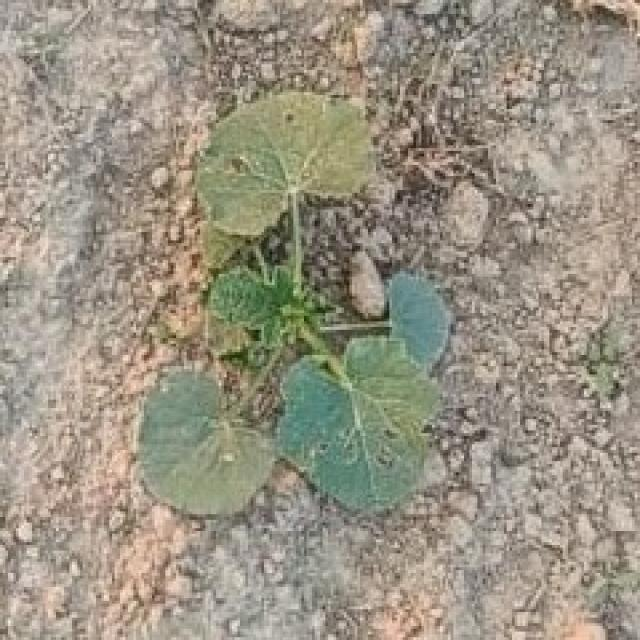plant: (140, 93, 454, 517)
